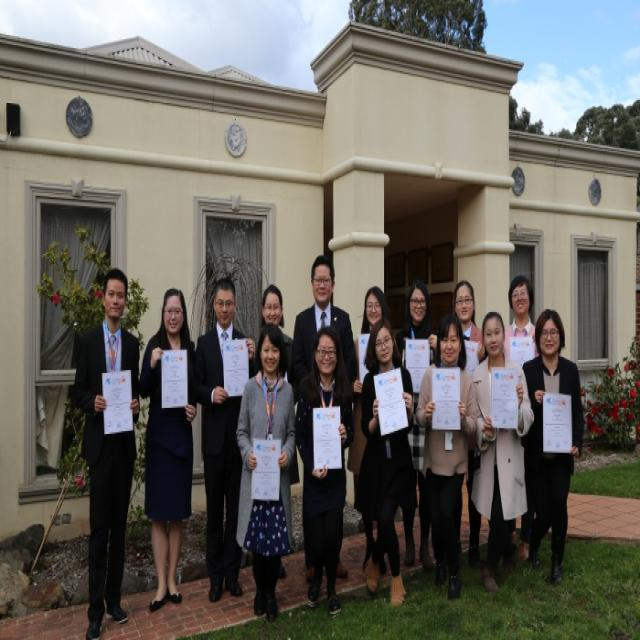body: (71, 266, 141, 638), (289, 251, 361, 582), (191, 271, 256, 604), (137, 286, 199, 617), (468, 309, 536, 597), (413, 310, 479, 600), (519, 306, 586, 588), (234, 320, 296, 622), (292, 324, 354, 616), (357, 316, 417, 611), (395, 277, 440, 572), (503, 273, 540, 564), (453, 278, 489, 572), (351, 283, 407, 402), (252, 282, 294, 384)
